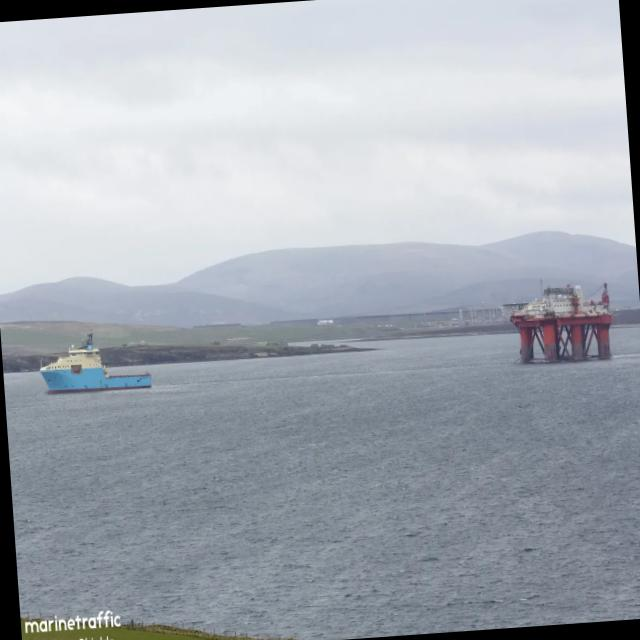Offshore: (40, 329, 151, 393)
